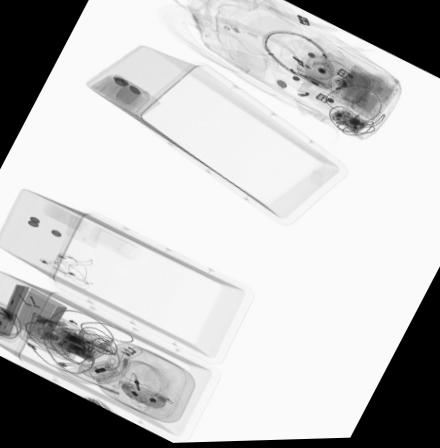Powerbank: (50, 327, 98, 363)
